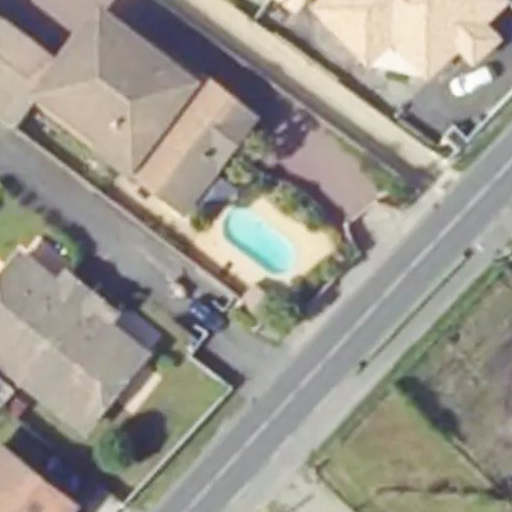pool: (209, 235, 303, 249)
